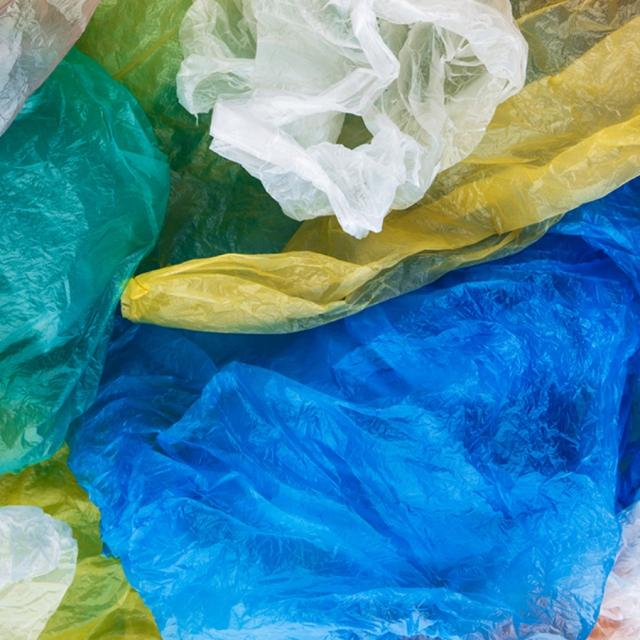Single-layer Plastic: (69, 179, 640, 640), (121, 0, 640, 332), (176, 0, 528, 238), (0, 50, 170, 472), (76, 0, 299, 272), (0, 448, 161, 639), (0, 0, 99, 134), (0, 506, 78, 639), (600, 501, 640, 640)
